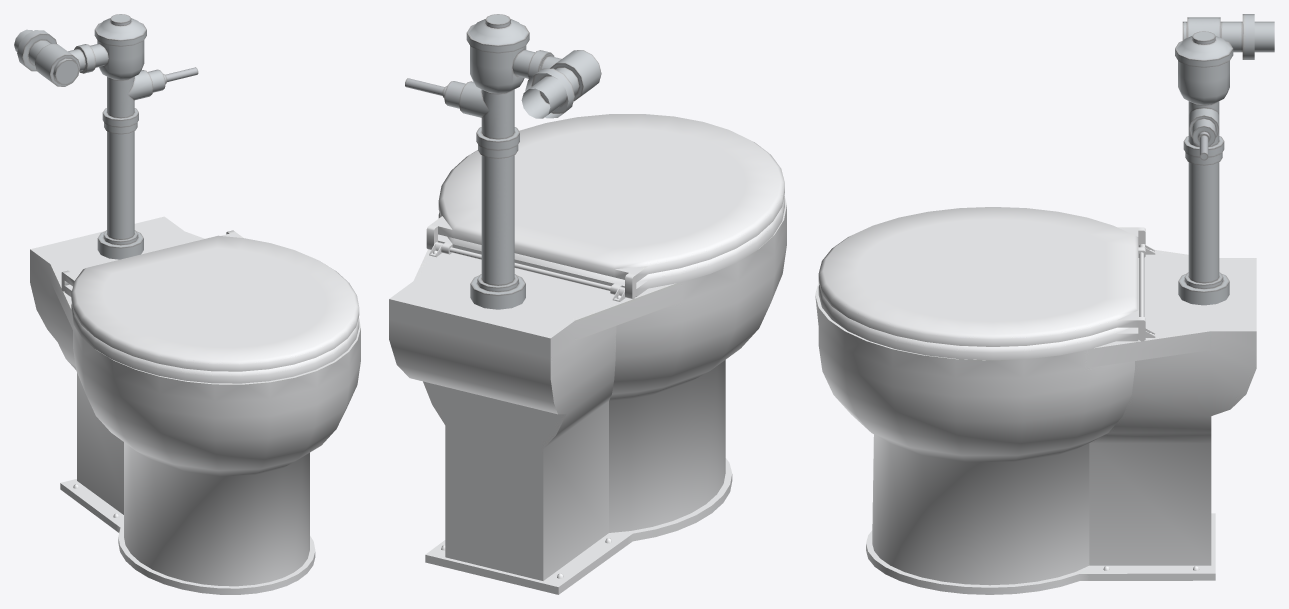
File: toilet.gltf
The picture shows the model from 3 angles, left to right: view 1: azimuth 30°, elevation 25°; view 2: azimuth 150°, elevation 25°; view 3: azimuth 270°, elevation 25°; orthographic projection. The views are drawn at different scales.
Parts seen in each view (by area): view 1: Toilet_Elongated_C, Toilet_Elongated_C_Seat_Cover, Toilet_Elongated_C_Seat; view 2: Toilet_Elongated_C, Toilet_Elongated_C_Seat_Cover, Toilet_Elongated_C_Seat; view 3: Toilet_Elongated_C, Toilet_Elongated_C_Seat_Cover, Toilet_Elongated_C_Seat.
Part boxes in pixels (bbox=[...]): Toilet_Elongated_C: bbox=[14, 14, 360, 594]; Toilet_Elongated_C_Seat_Cover: bbox=[61, 230, 359, 371]; Toilet_Elongated_C_Seat: bbox=[64, 284, 359, 383]; Toilet_Elongated_C: bbox=[389, 14, 786, 594]; Toilet_Elongated_C_Seat_Cover: bbox=[426, 114, 784, 299]; Toilet_Elongated_C_Seat: bbox=[429, 195, 784, 301]; Toilet_Elongated_C: bbox=[815, 14, 1274, 594]; Toilet_Elongated_C_Seat_Cover: bbox=[818, 207, 1145, 346]; Toilet_Elongated_C_Seat: bbox=[818, 244, 1155, 360].
Size of the model in its own units: 0.4191 by 0.7637 by 0.6184.
3 materials, 3 textured.
